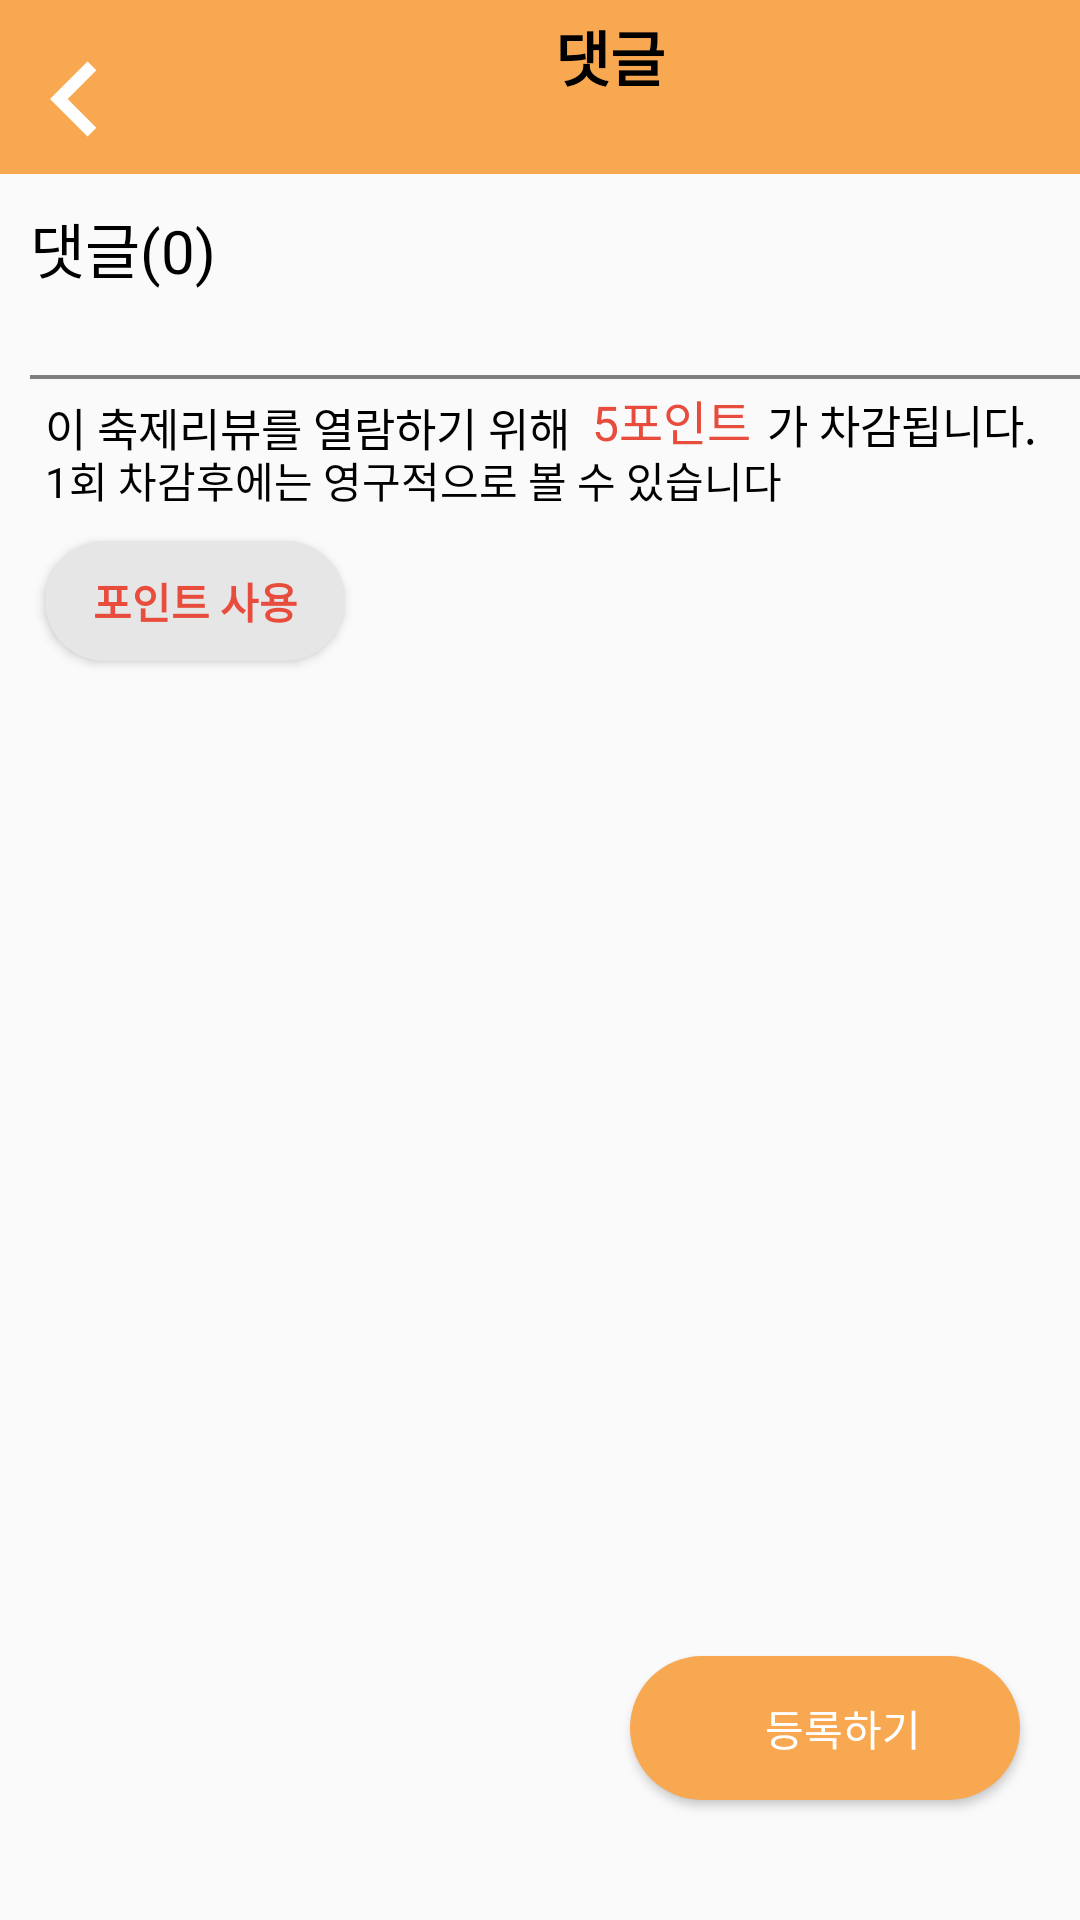

Where to tap for icons on this 1080 × 1920 app screen, as (x=x, y=y):
navigate before: (x=73, y=99)
